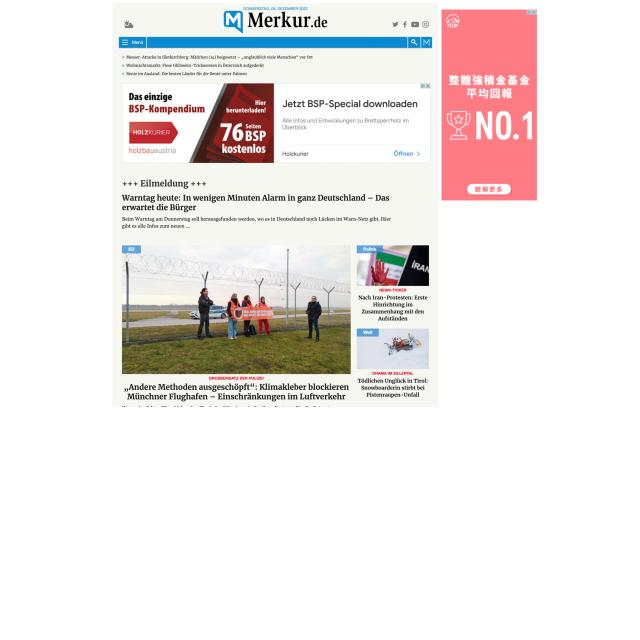logo: (222, 5, 334, 33)
navigation: (120, 38, 144, 47)
